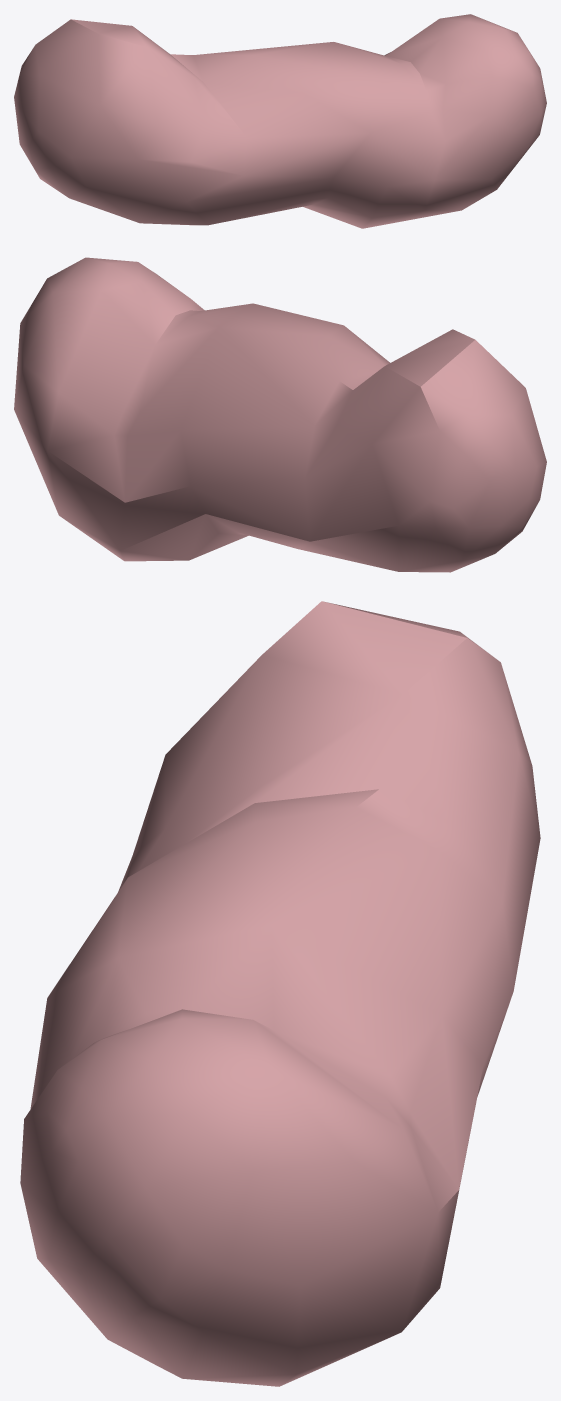
File: fma16983_fj2619.glb
3 renders of one model, top to bottom at view 1: azimuth 30°, elevation 25°; view 2: azimuth 150°, elevation 25°; view 3: azimuth 270°, elevation 25°, orthographic. The views are drawn at different scales.
Visible parts, largest first — view 1: FMA16983_FJ2619; view 2: FMA16983_FJ2619; view 3: FMA16983_FJ2619.
Boxes of the visible parts, left/top/right/bottom form: FMA16983_FJ2619: left=14, top=14, right=546, bottom=228; FMA16983_FJ2619: left=14, top=257, right=546, bottom=572; FMA16983_FJ2619: left=20, top=601, right=540, bottom=1386.
Size of the model in its own units: 0.0577 by 0.0288 by 0.0282.
